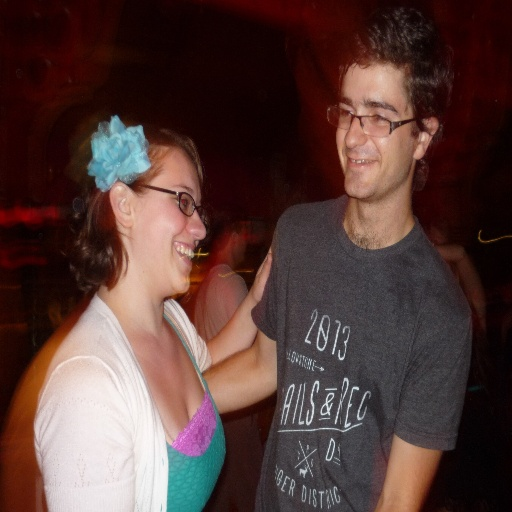hand: (251, 246, 271, 302)
